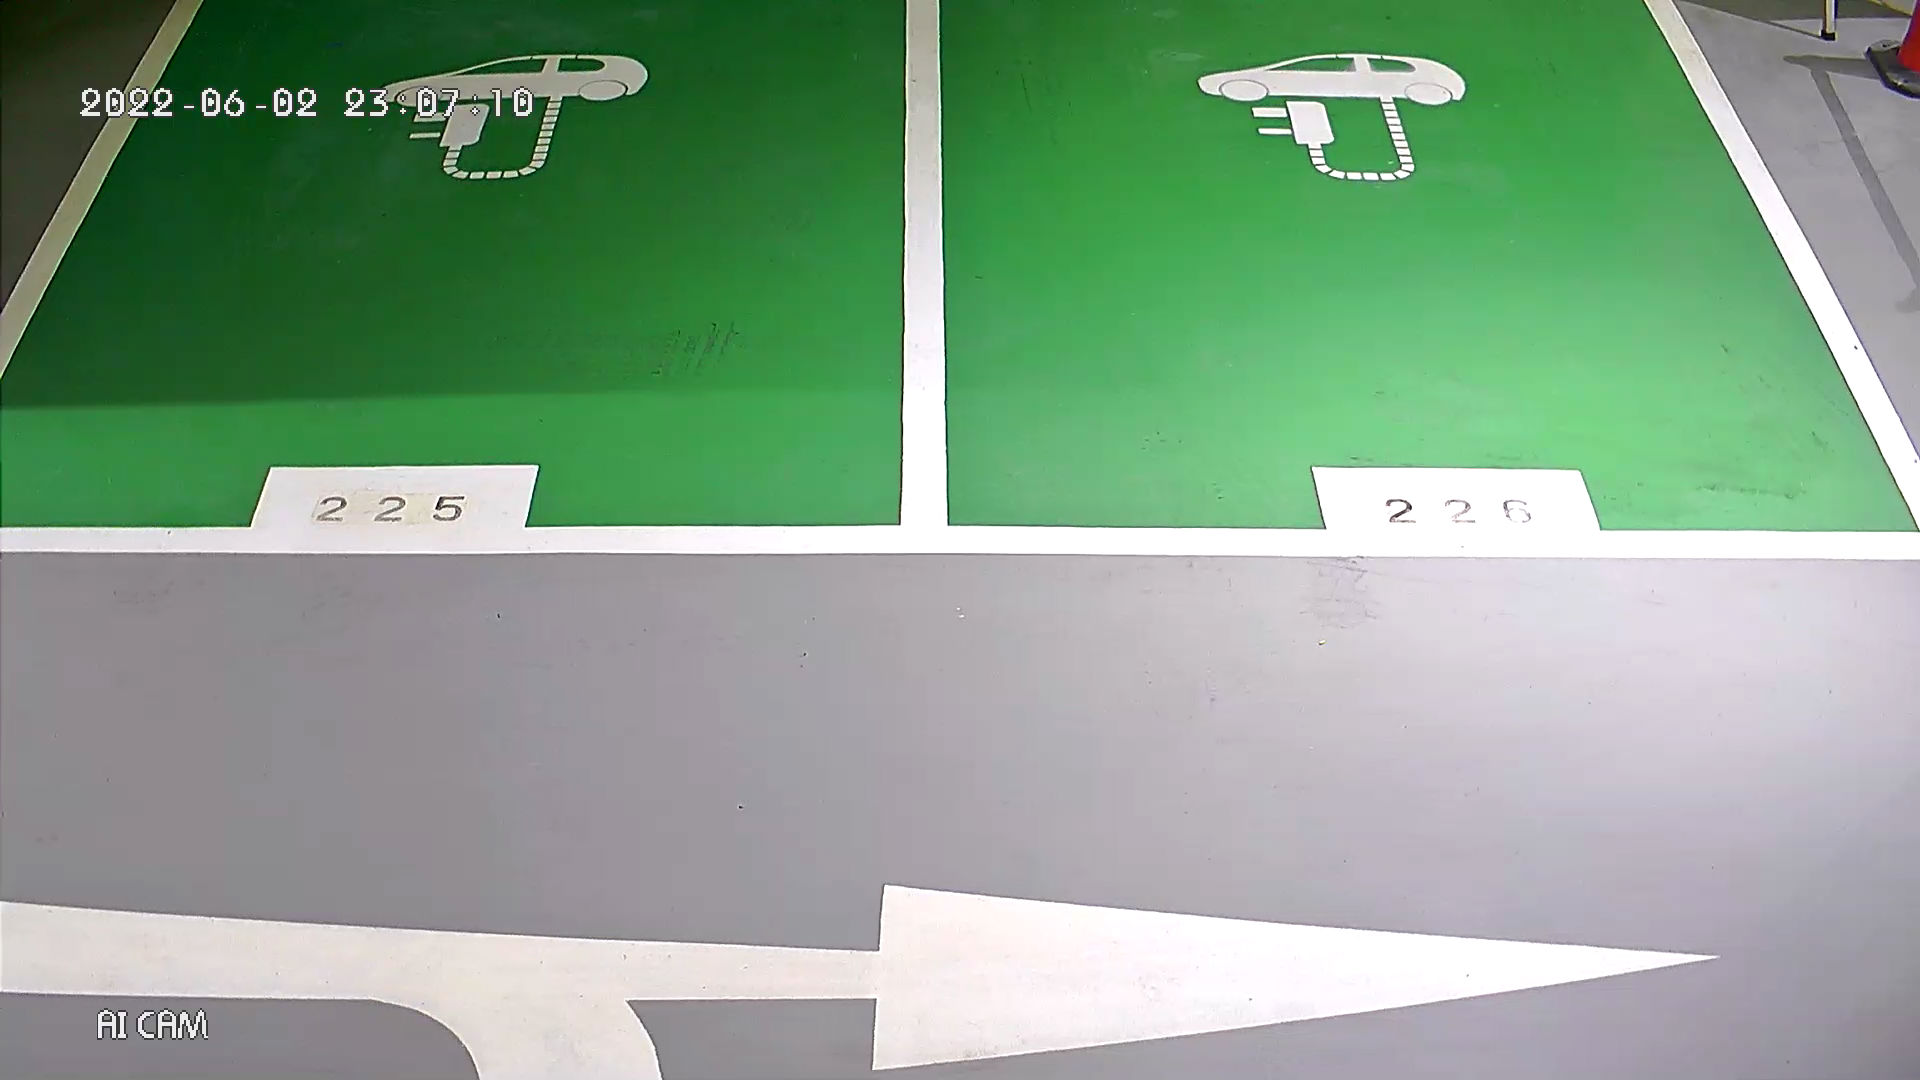space: (858, 11, 1895, 857), (4, 8, 992, 858)
